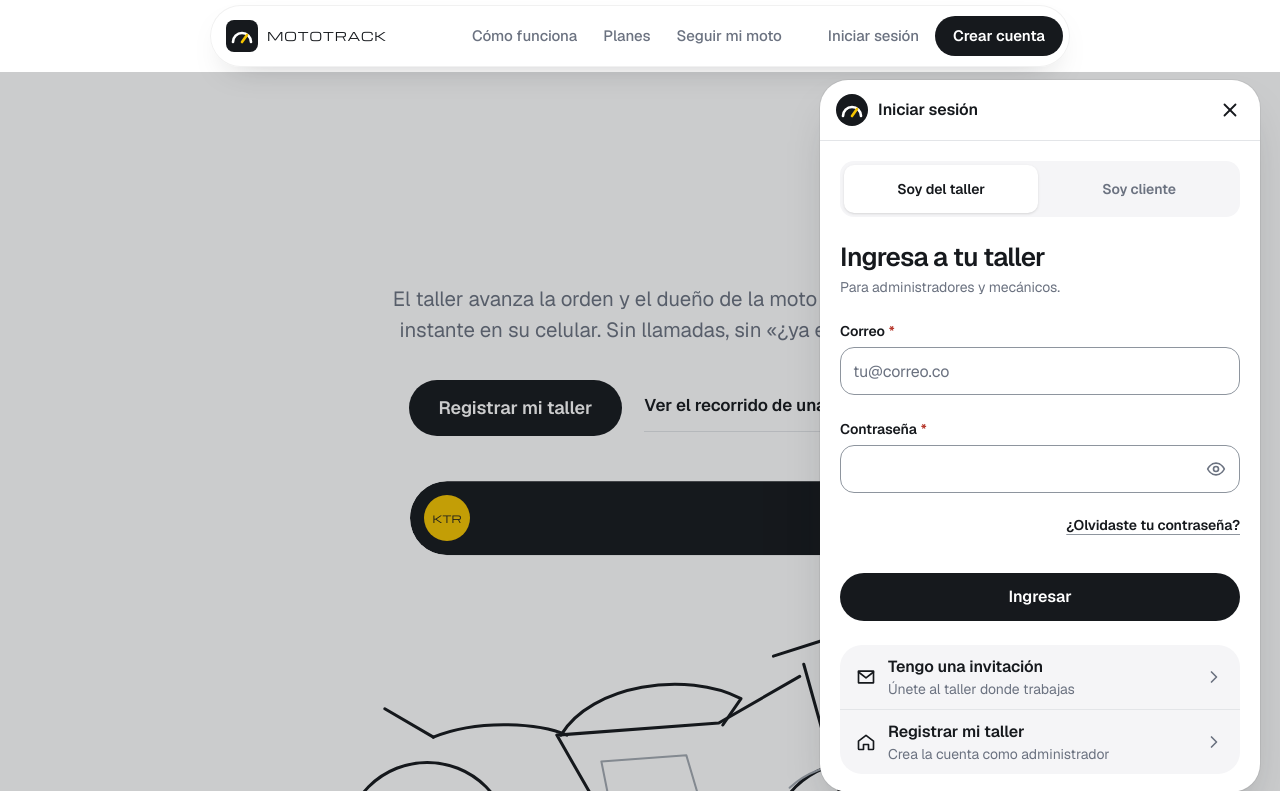
Test: HU-19 · Inicio de sesión › con datos incorrectos muestra el mensaje y conserva el correo
Type "admin@mototrack.co" into the field labelled "Correo*". click: (1040, 371)
box: [840, 347, 1240, 395]
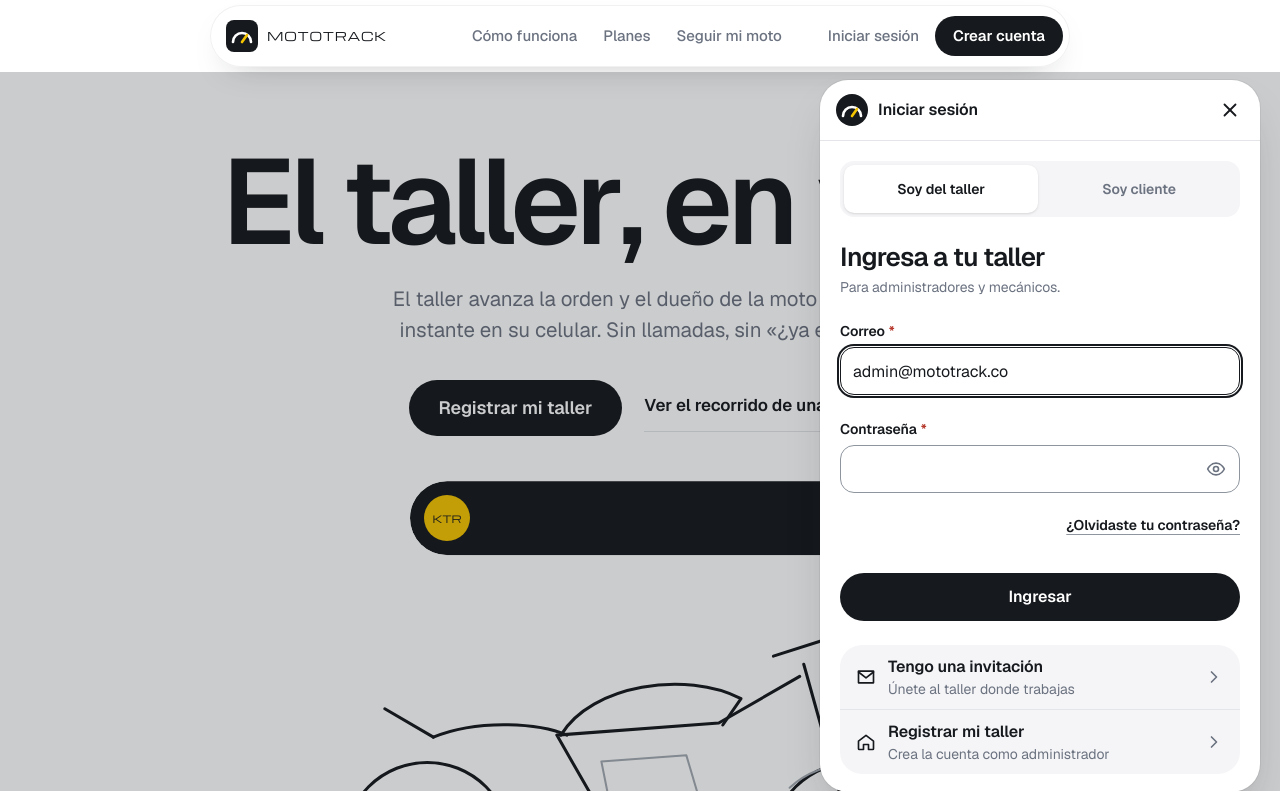
Type "Mala1234" into the password field labelled "Contraseña*". click: (1040, 469)
box: [840, 445, 1240, 493]
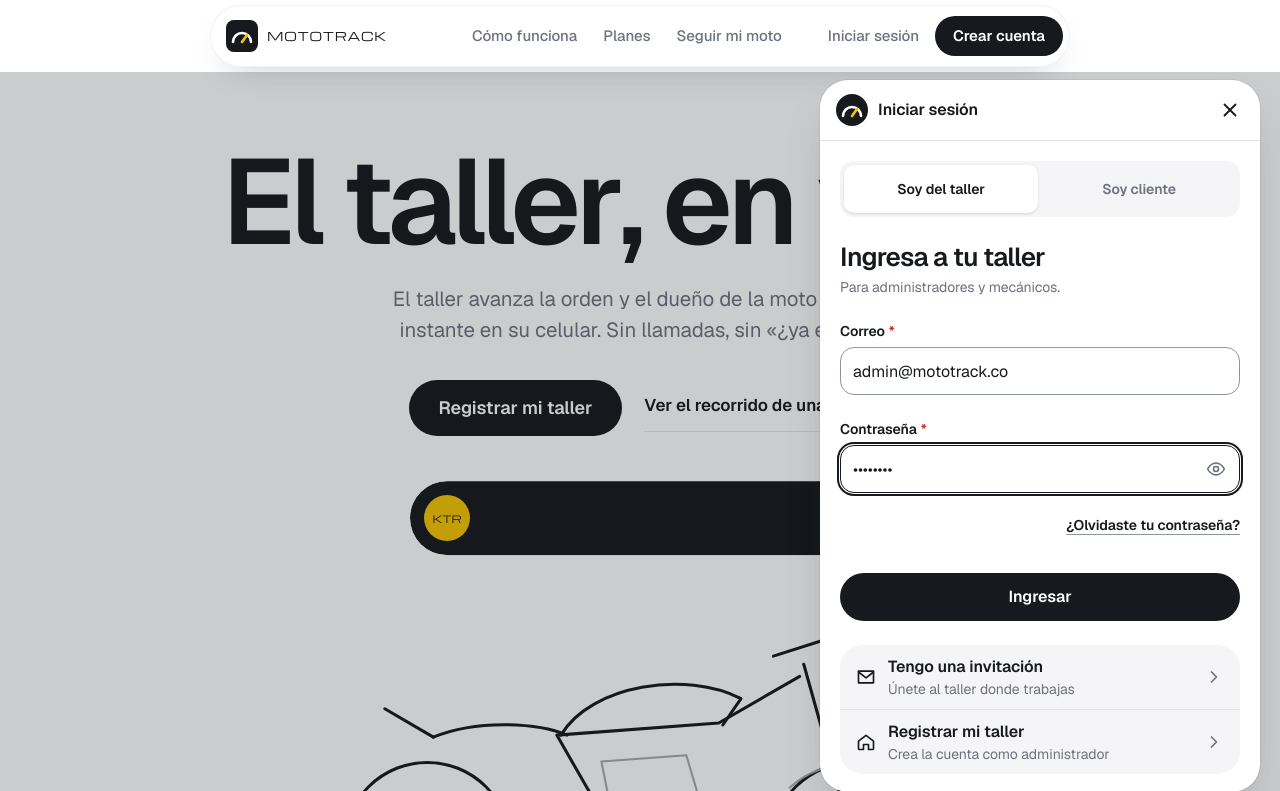
Click the button "Ingresar". click: (1040, 597)
box: [840, 573, 1240, 621]
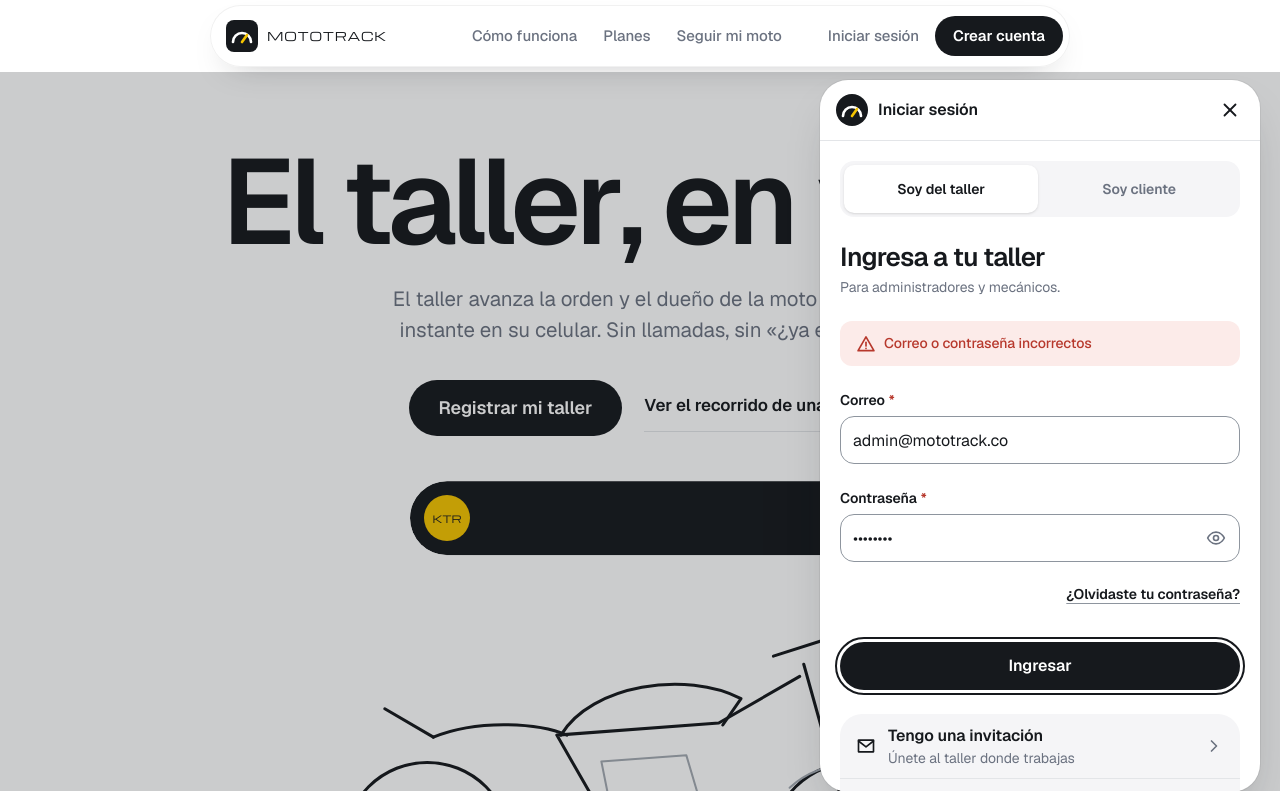
Expected: the message reads "Correo o contraseña incorrectos", [884, 334, 1092, 352]
